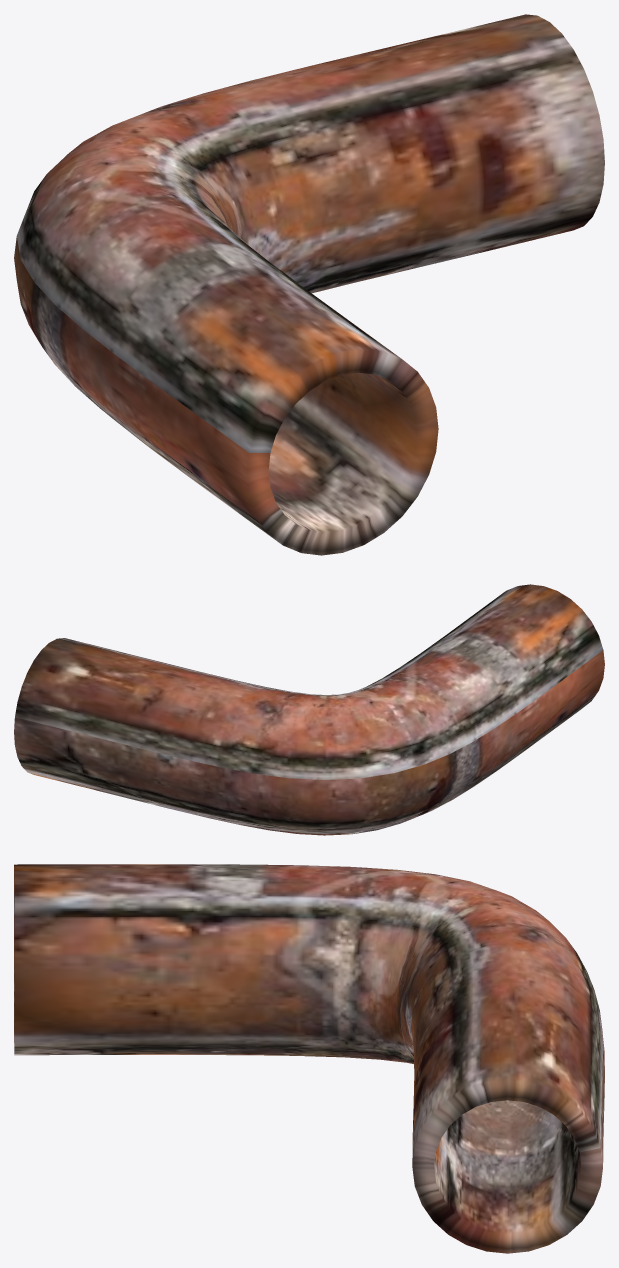
Rendered from Long_Curve_Sewer_03.fbx.
3 renders of one model, top to bottom at view 1: azimuth 30°, elevation 25°; view 2: azimuth 150°, elevation 25°; view 3: azimuth 270°, elevation 25°, orthographic. The views are drawn at different scales.
Visible parts, largest first — view 1: Long_Curve; view 2: Long_Curve; view 3: Long_Curve.
Boxes of the visible parts, left/top/right/bottom form: Long_Curve: left=14, top=14, right=604, bottom=555; Long_Curve: left=14, top=584, right=604, bottom=835; Long_Curve: left=14, top=864, right=604, bottom=1253.
Size of what is drawn, in the model's own units: 3575 by 1162 by 3601.
